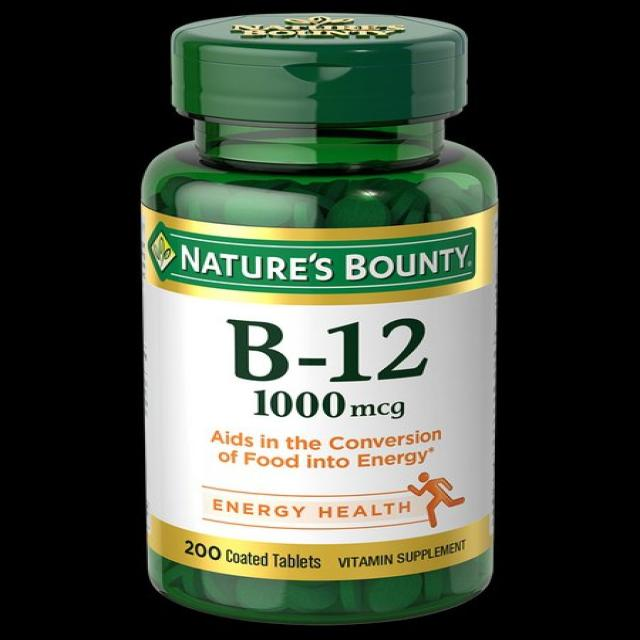food-supliment: (149, 208, 498, 588)
